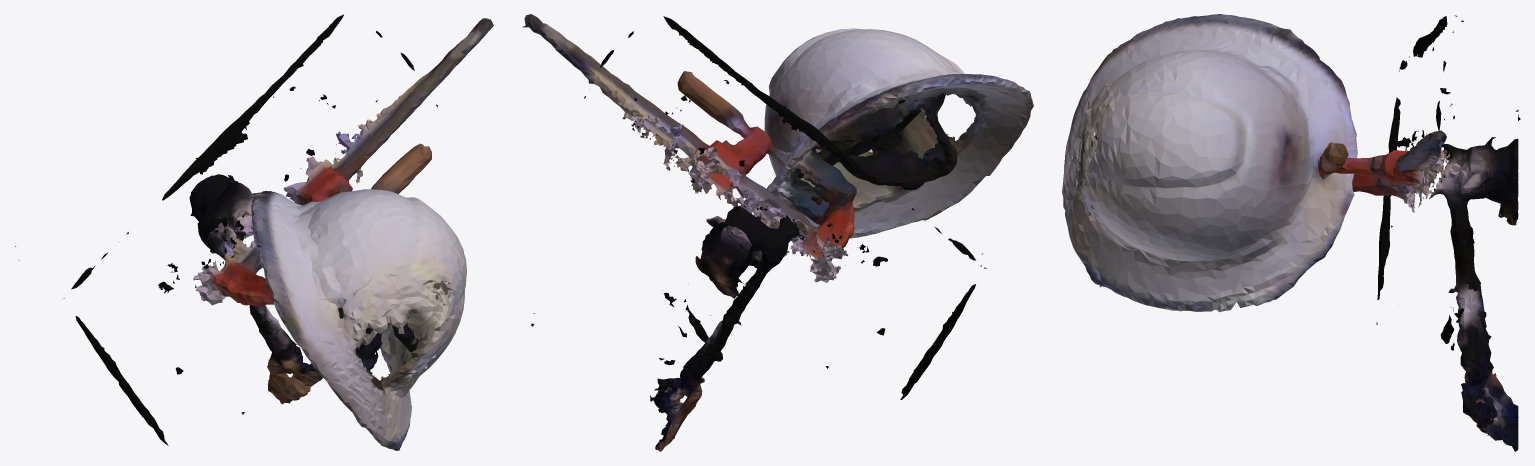
Rendered from helmet.obj.
The picture shows the model from 3 angles, left to right: view 1: azimuth 30°, elevation 25°; view 2: azimuth 150°, elevation 25°; view 3: azimuth 270°, elevation 25°; orthographic projection. The views are drawn at different scales.
Size of the model in its own units: 22.09 by 18.29 by 17.02.
1 material, 1 textured.
